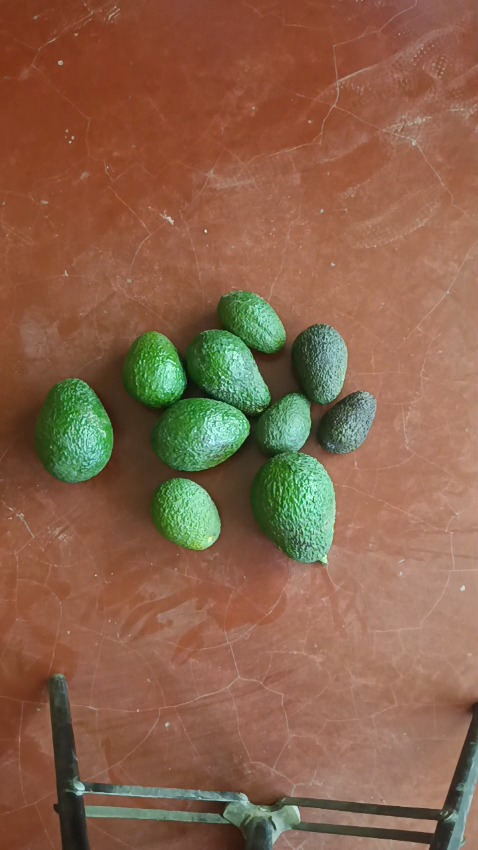Primera: (251, 451, 335, 563), (33, 379, 115, 483)
Segunda: (151, 398, 250, 471), (185, 329, 270, 414)
Tercera: (150, 477, 222, 551), (122, 332, 188, 409), (217, 290, 286, 355), (292, 323, 348, 403), (317, 391, 376, 454), (254, 392, 312, 456)
